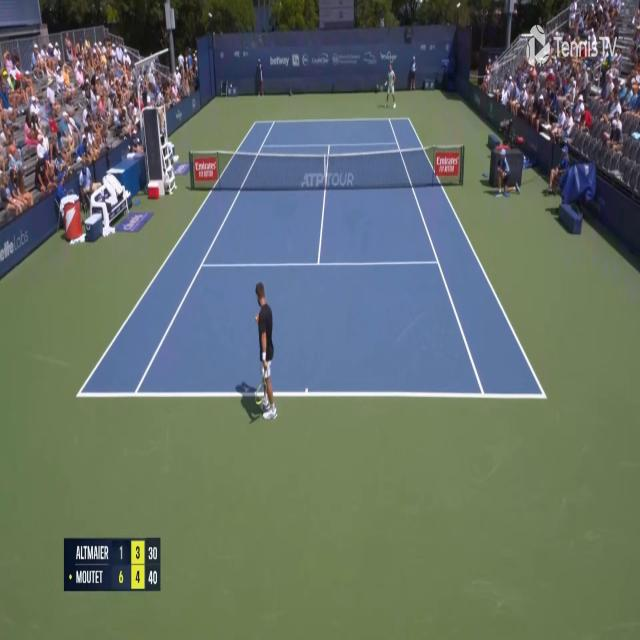tennis-player: (244, 278, 278, 426), (380, 60, 397, 108)
